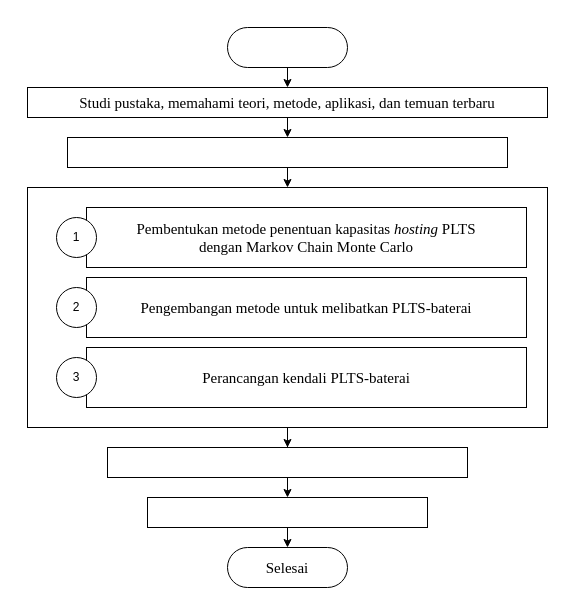
Image size: 574x614. Some labels were removed from this diagram. The centre of each missing label's shape, as x and y in pixels:
"Mulai" goes at (x=287, y=47).
"Pembahasan hasil" goes at (x=287, y=462).
"Penarikan kesimpulan" goes at (x=287, y=512).
"Perumusan masalah, kontribusi, tujuan, dan hipotesis" goes at (x=287, y=152).
